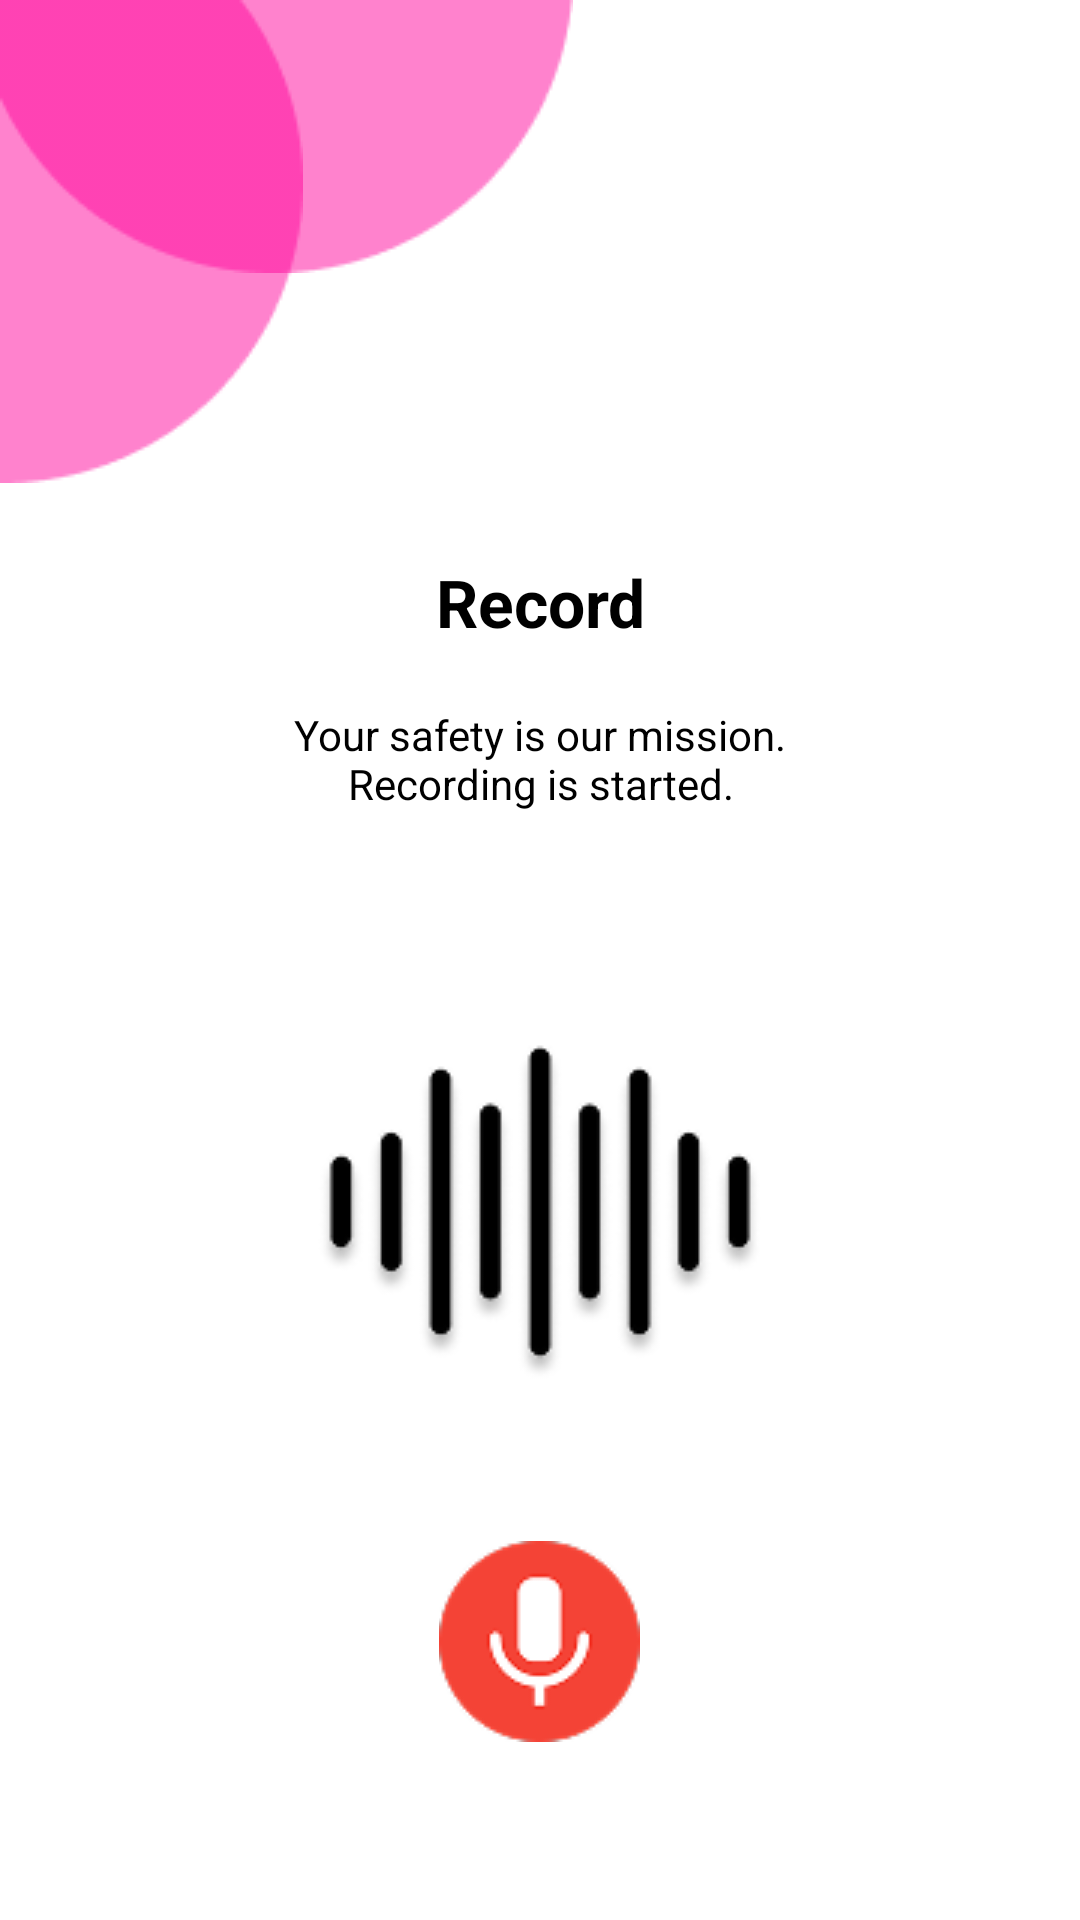

Screen size 1080 x 1920. Icon name, then its box in pixels as (x1, y1, x2, y2):
recordimg: (439, 1541, 640, 1742)
